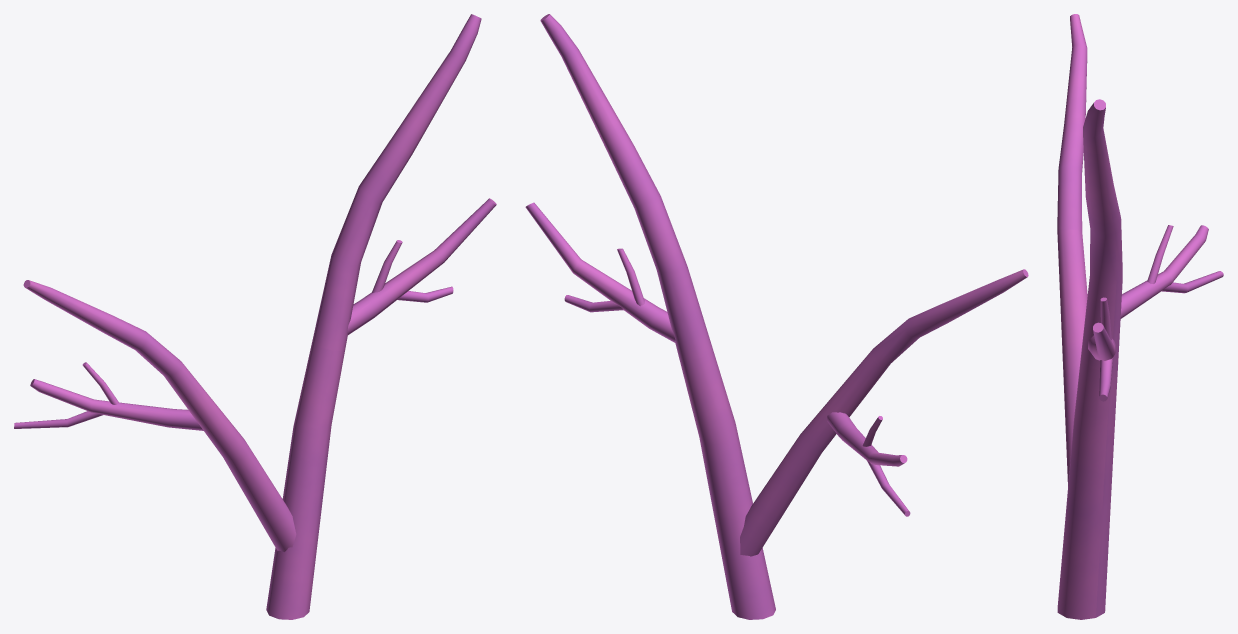
File: DeadTree_8.obj
3 renders of one model, left to right at view 1: azimuth 30°, elevation 25°; view 2: azimuth 150°, elevation 25°; view 3: azimuth 270°, elevation 25°, orthographic. The views are drawn at different scales.
Parts seen in each view (by area): view 1: DeadTree_8_Cylinder.048; view 2: DeadTree_8_Cylinder.048; view 3: DeadTree_8_Cylinder.048.
Boxes of the visible parts, box(x1,y1,x2,y2) form: DeadTree_8_Cylinder.048: box(14, 14, 496, 619); DeadTree_8_Cylinder.048: box(525, 14, 1028, 619); DeadTree_8_Cylinder.048: box(1057, 14, 1223, 619).
Bounding box in the file's own units: 4.59 × 4.95 × 1.21.
1 material, 1 textured.
